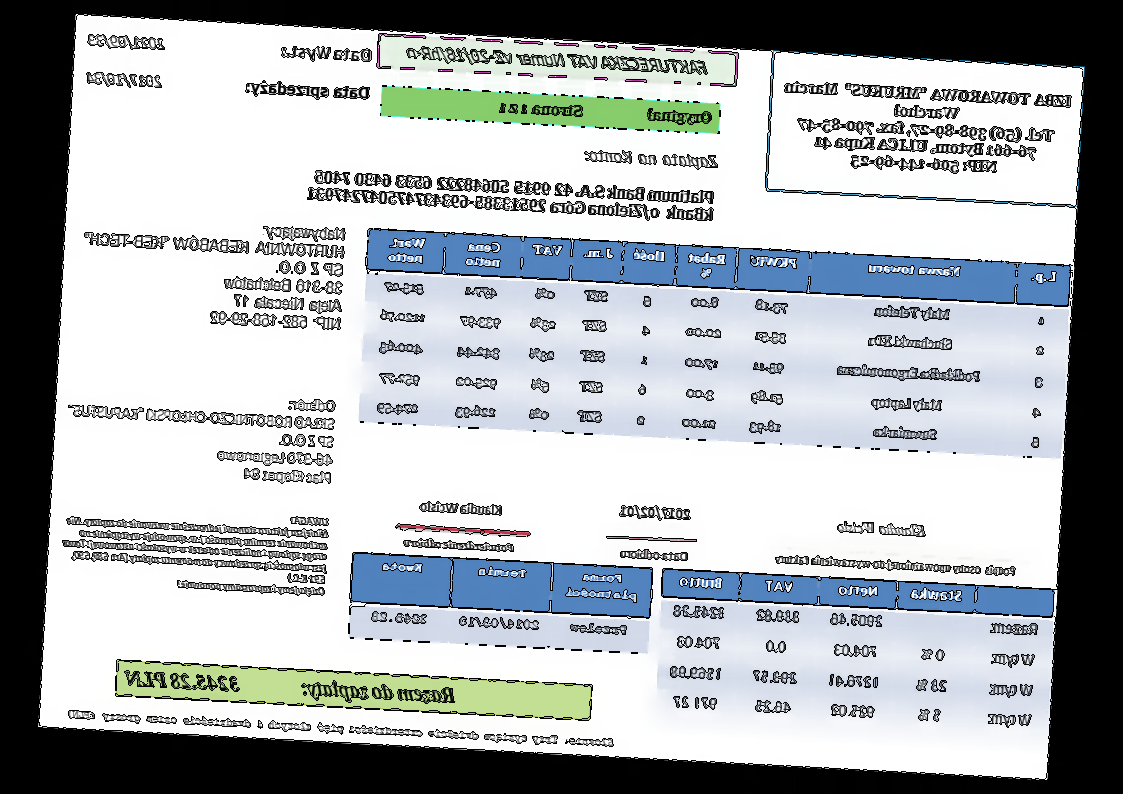Table: (357, 226, 1073, 461), (655, 567, 1057, 742), (346, 550, 655, 656)
TextBox: (77, 211, 347, 333), (779, 76, 1075, 183), (62, 384, 337, 489), (56, 501, 332, 600), (65, 707, 617, 750), (305, 167, 718, 224), (123, 667, 459, 710), (403, 42, 711, 79), (496, 95, 715, 128), (771, 551, 1017, 579), (581, 144, 721, 173), (242, 76, 374, 105), (279, 41, 373, 66), (401, 535, 517, 555), (835, 516, 929, 540), (86, 30, 168, 55), (84, 67, 165, 90), (617, 502, 694, 524), (419, 499, 506, 518), (620, 546, 691, 563)
